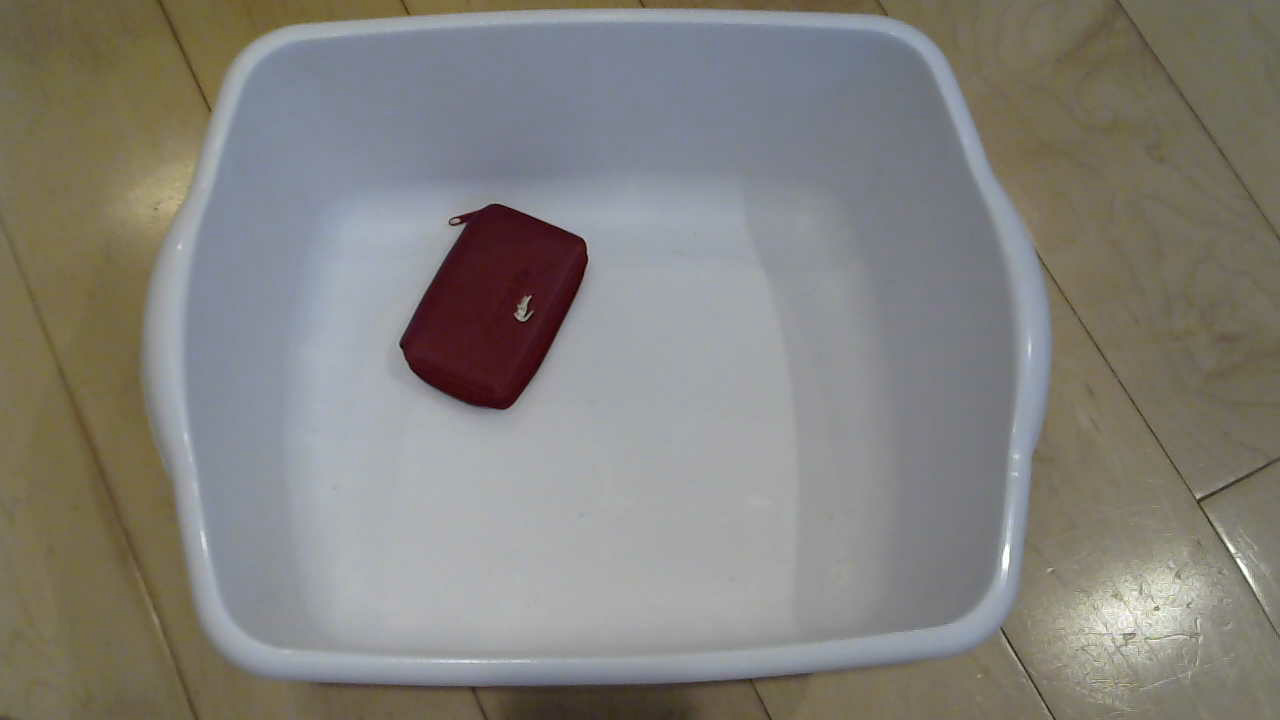wallet: (377, 192, 613, 432)
